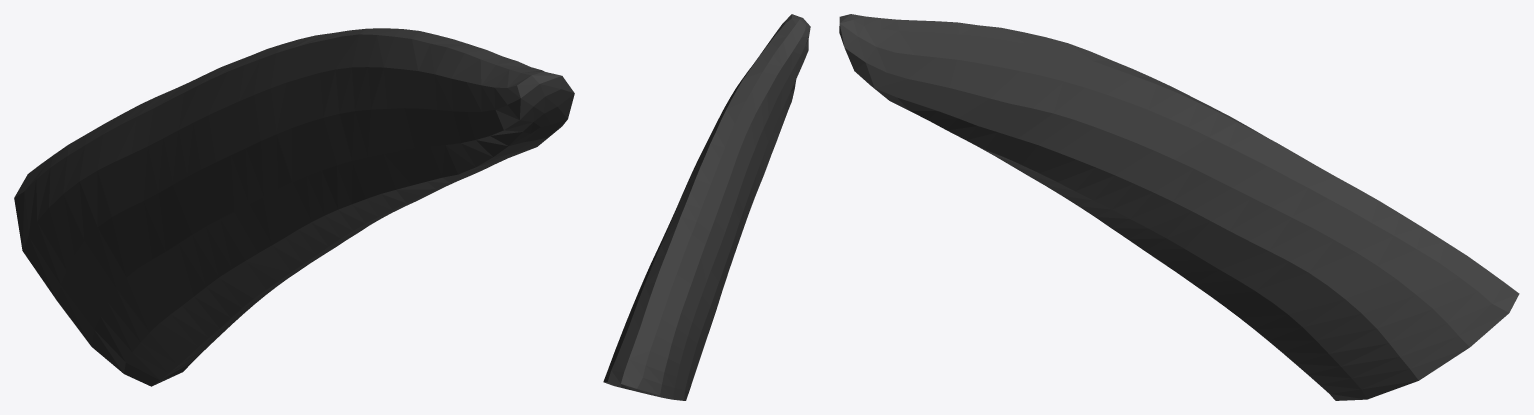
Rendered from Omotransversarius.glb.
3 renders of one model, left to right at view 1: azimuth 30°, elevation 25°; view 2: azimuth 150°, elevation 25°; view 3: azimuth 270°, elevation 25°, orthographic. The views are drawn at different scales.
Parts seen in each view (by area): view 1: Omotransversarius; view 2: Omotransversarius; view 3: Omotransversarius.
Boxes of the visible parts, x1,y1,x2,y2 form: Omotransversarius: [14, 28, 574, 386]; Omotransversarius: [603, 14, 810, 400]; Omotransversarius: [839, 14, 1519, 400].
Bounding box in the file's own units: 0.1502 × 0.4646 × 0.711.
Materials: 1 (1 with a texture image).
